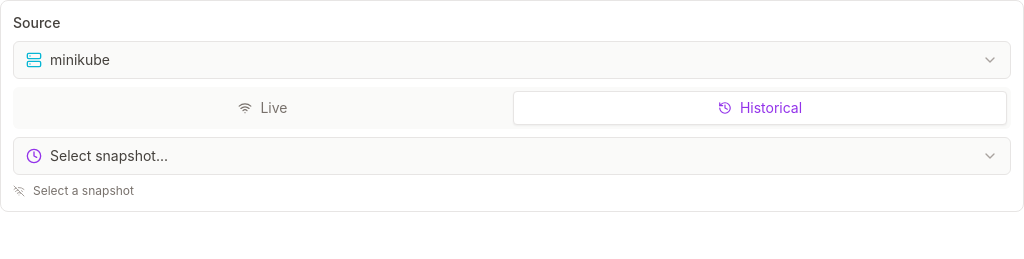
Test case: SourceSelector › shows fallback text when no snapshots are available
Click the button "Select snapshot...".
click(109, 156)  # box [13,137,1011,175]
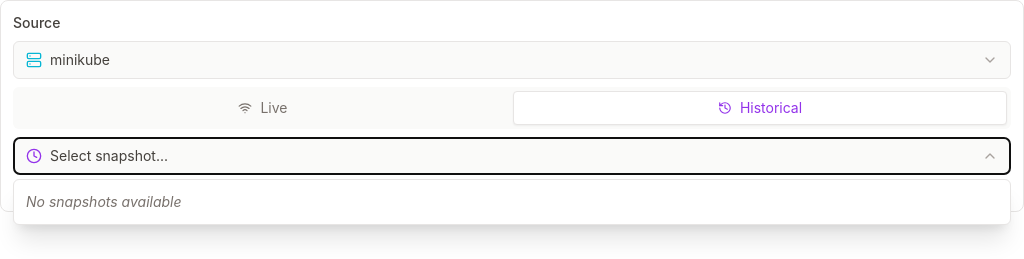
Expected: the text "No snapshots available" is shown, [26,193,182,210]
